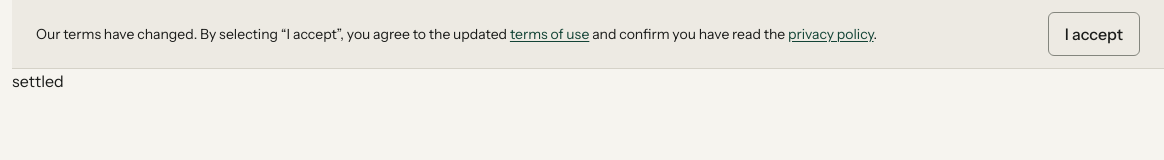
it: TermsBanner › shows the error and stays when accepting fails
The width and height of the screenshot is (1164, 160).
Click the button "I accept" at (1094, 34), box [1048, 12, 1140, 56]
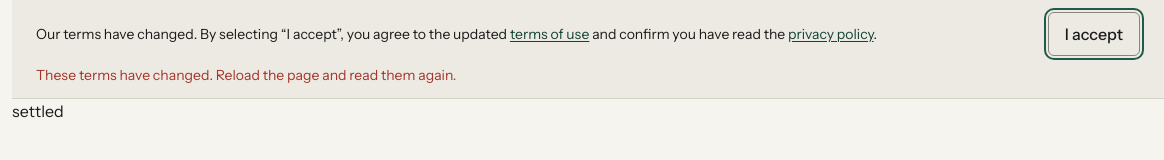
Expected: the message reads "These terms have changed. Reload the page and read them again.", [36, 66, 456, 84]
